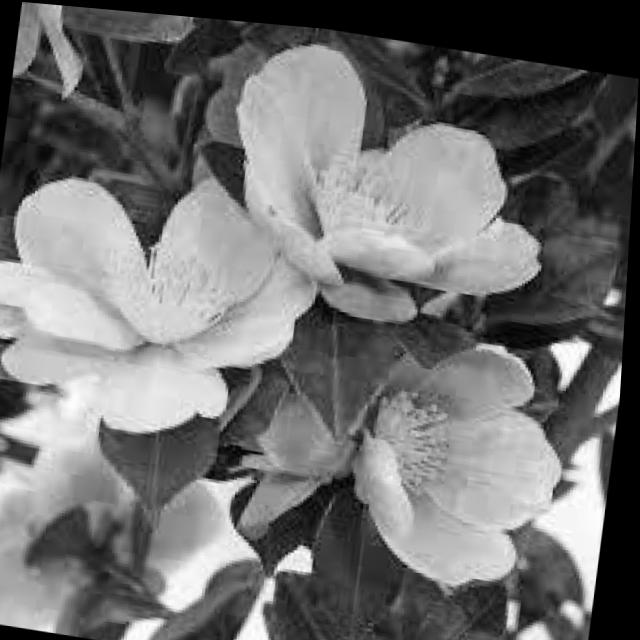Flower: (214, 32, 576, 341), (0, 161, 330, 464), (365, 322, 585, 601)
